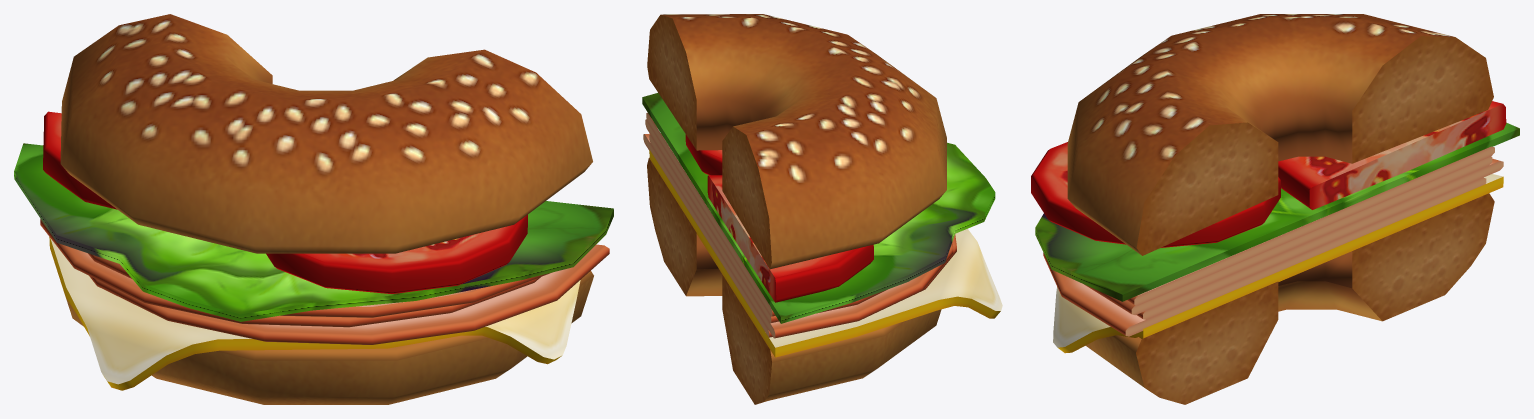
The model's file is 007-Bagel_Sandwich_Half.FBX.
3 renders of one model, left to right at view 1: azimuth 30°, elevation 25°; view 2: azimuth 150°, elevation 25°; view 3: azimuth 270°, elevation 25°, orthographic. The views are drawn at different scales.
Visible parts, largest first — view 1: 007-Bagel_Sandwich_Half; view 2: 007-Bagel_Sandwich_Half; view 3: 007-Bagel_Sandwich_Half.
Part boxes in pixels (x1,y1,x2,y2): 007-Bagel_Sandwich_Half: (14, 14, 613, 404); 007-Bagel_Sandwich_Half: (642, 14, 1002, 404); 007-Bagel_Sandwich_Half: (1031, 14, 1519, 404).
Bounding box in the file's own units: 16.9 × 10.32 × 16.99.
